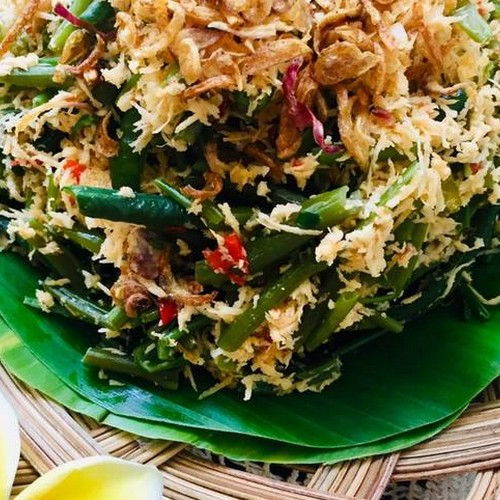jukut urap: (20, 13, 466, 377)
